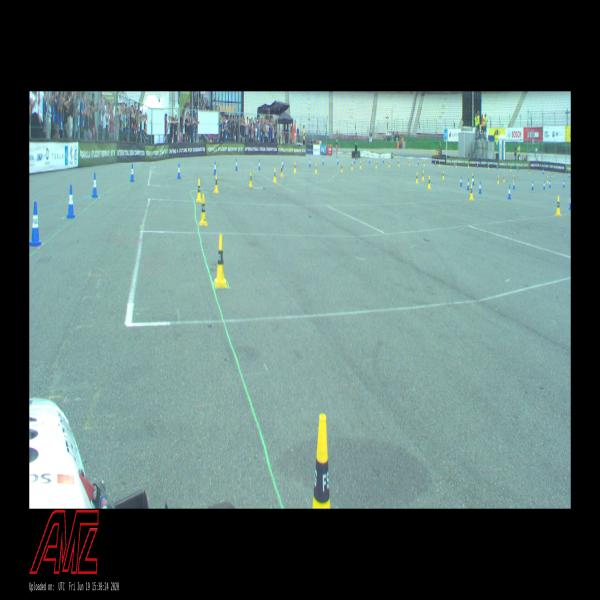blue_cone: (30, 202, 41, 246), (67, 184, 75, 218), (92, 173, 98, 198), (130, 164, 135, 182), (177, 163, 181, 179), (508, 185, 511, 199), (479, 181, 482, 194), (235, 159, 238, 170), (258, 160, 261, 170), (472, 176, 475, 186), (214, 161, 216, 174), (467, 178, 469, 190), (282, 158, 284, 169), (460, 176, 462, 187), (544, 180, 546, 190), (532, 181, 534, 190), (513, 180, 515, 189), (309, 158, 311, 167), (549, 180, 551, 188), (322, 157, 324, 165), (563, 180, 565, 188), (337, 157, 339, 164), (569, 196, 570, 209), (496, 164, 498, 169), (354, 157, 355, 164), (418, 159, 419, 165), (383, 156, 384, 162), (569, 172, 570, 178), (369, 157, 370, 163), (543, 168, 544, 174), (435, 160, 436, 166), (454, 161, 455, 167), (477, 163, 478, 168), (398, 158, 398, 162), (518, 166, 518, 171)
yellow_cone: (312, 414, 331, 508), (214, 233, 227, 287), (200, 194, 207, 226), (196, 179, 202, 202), (556, 196, 561, 216), (214, 174, 218, 193), (248, 171, 252, 188), (470, 185, 474, 200), (273, 168, 277, 183), (280, 164, 283, 177), (428, 175, 430, 188), (416, 172, 418, 183), (422, 170, 424, 181), (315, 163, 317, 174), (442, 170, 444, 180), (294, 162, 296, 172), (341, 163, 343, 172), (503, 173, 505, 182), (512, 174, 514, 183), (497, 176, 499, 184), (351, 162, 353, 170), (388, 160, 390, 168), (375, 160, 377, 168), (398, 160, 400, 167), (439, 160, 441, 167), (408, 160, 410, 166), (552, 171, 554, 177), (455, 162, 457, 168), (360, 160, 361, 169), (471, 173, 472, 181), (547, 176, 548, 183), (510, 166, 511, 172), (468, 162, 469, 168), (488, 163, 489, 169), (529, 168, 530, 173), (424, 160, 424, 167)
